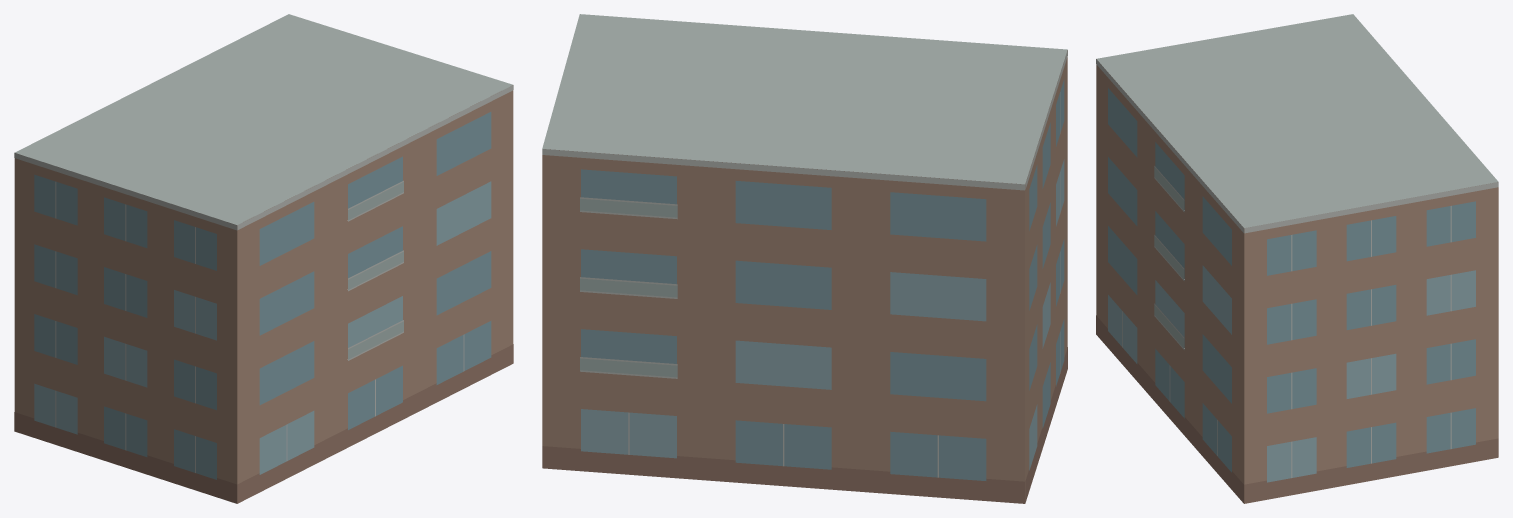
File: survey-upis-32851437.glb
3 views of the same model, side by side, from view 1: azimuth 30°, elevation 25°; view 2: azimuth 150°, elevation 25°; view 3: azimuth 270°, elevation 25° (orthographic). The views are drawn at different scales.
Visible parts, largest first — view 1: survey-upis-32851437.tmp; view 2: survey-upis-32851437.tmp; view 3: survey-upis-32851437.tmp.
Boxes of the visible parts, bbox=[...] form: survey-upis-32851437.tmp: bbox=[14, 14, 513, 503]; survey-upis-32851437.tmp: bbox=[542, 14, 1067, 503]; survey-upis-32851437.tmp: bbox=[1096, 14, 1498, 503].
Bounding box in the file's own units: 21.22 × 12.73 × 16.85.
